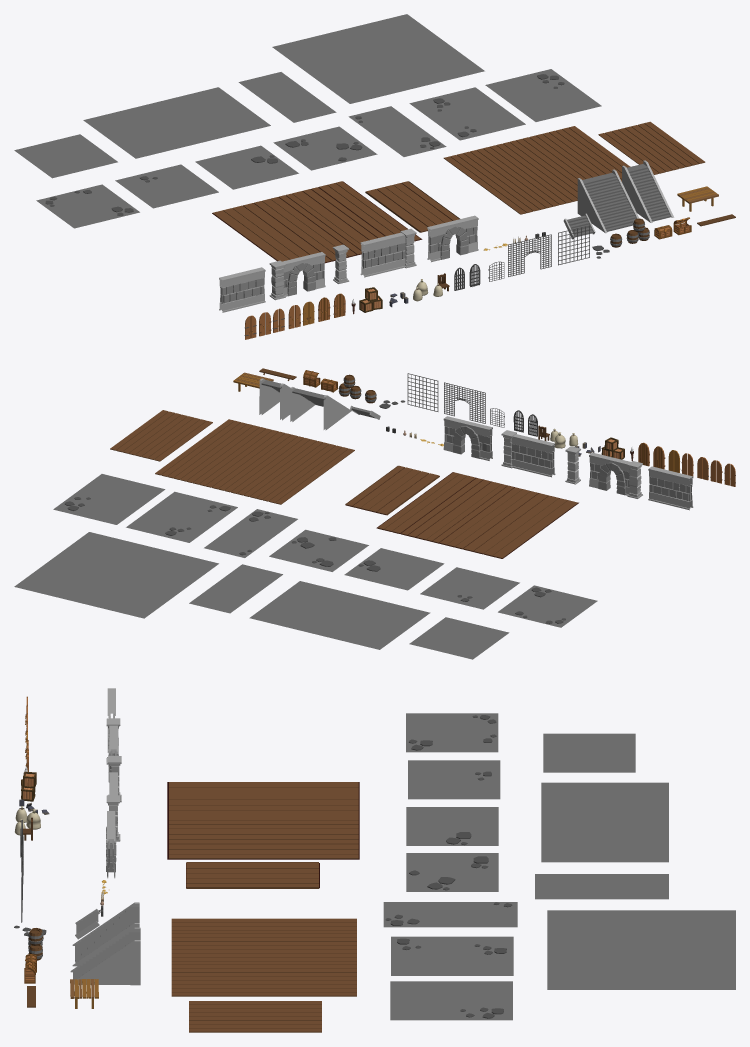
The model's file is Dungeon items.fbx.
3 renders of one model, top to bottom at view 1: azimuth 30°, elevation 25°; view 2: azimuth 150°, elevation 25°; view 3: azimuth 270°, elevation 25°, orthographic. The views are drawn at different scales.
Parts seen in each view (by area): view 1: Floor gray2, Floor wood3, Floor wood5, Floor gray3, Floor stone5, Floor stone4, Floor wood3.001, stairs 2, Floor stone3, Floor stone2, Floor stone1, Floor gray4 (+11 smaller); view 2: Floor gray2, Floor wood3, Floor wood5, Floor gray3, Floor stone4, Floor stone5, Floor wood3.001, Floor gray4, Floor stone3, Floor stone2, Floor stone4.001, Floor stone1 (+11 smaller); view 3: Floor gray2, Floor wood3, Floor wood5, Floor gray3, Floor stone4, Floor stone5, Floor wood3.001, Floor gray4, Floor stone2, Floor stone1, Floor stone4.001, Floor stone3 (+7 smaller).
Boxes of the visible parts, x1,y1,x2,y2 form: Floor gray2: (272,14,484,103); Floor wood3: (212,181,422,263); Floor wood5: (443,126,630,214); Floor gray3: (83,87,270,158); Floor stone5: (485,69,601,121); Floor stone4: (409,87,525,140); Floor wood3.001: (598,121,705,174); stairs 2: (577,169,639,233); Floor stone3: (195,145,298,189); Floor stone2: (115,164,218,208); Floor stone1: (36,184,139,228); Floor gray4: (14,134,117,178); Floor gray2: (14,532,218,618); Floor wood3: (376,472,578,558); Floor wood5: (155,419,354,504); Floor gray3: (249,581,430,649); Floor stone4: (126,491,237,542); Floor stone5: (53,474,165,524); Floor wood3.001: (110,410,212,461); Floor gray4: (409,617,509,659); Floor stone3: (344,548,444,590); Floor stone2: (420,567,519,609); Floor stone4.001: (269,529,368,571); Floor stone1: (498,585,597,627); Floor gray2: (547,910,735,989); Floor wood3: (167,782,359,859); Floor wood5: (171,918,356,996); Floor gray3: (541,782,668,862); Floor stone4: (391,936,513,975); Floor stone5: (390,981,512,1020); Floor wood3.001: (189,1001,321,1032); Floor gray4: (543,733,635,772); Floor stone2: (408,760,500,799); Floor stone1: (406,713,498,752); Floor stone4.001: (406,853,498,891); Floor stone3: (406,807,498,845).
Bounding box in the file's own units: 4902 × 316 × 4689.
